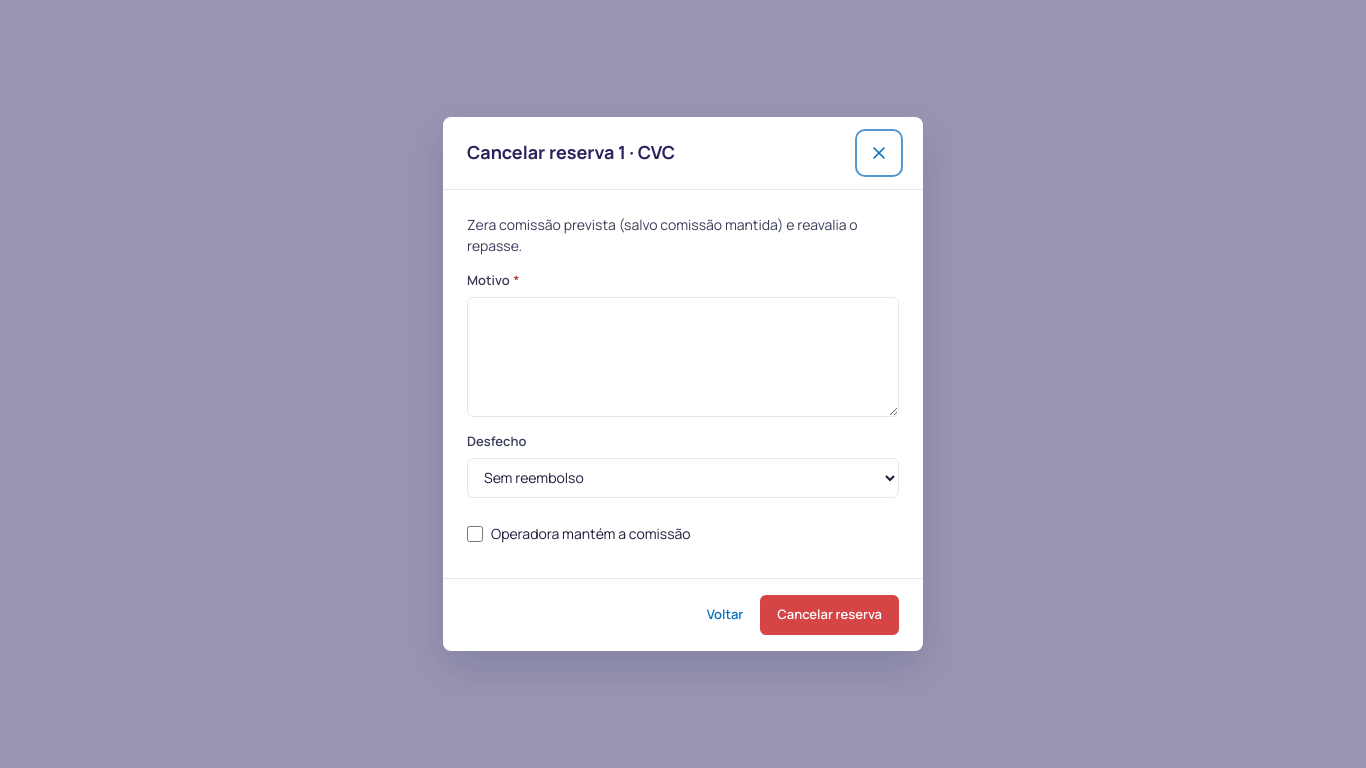
422 valor_acima_da_venda com reembolso aparece sob Valor do reembolso
Step 1. Type "Cliente desistiu" into the text box labelled "Motivo *" → (683, 357), box [467,297,899,417]
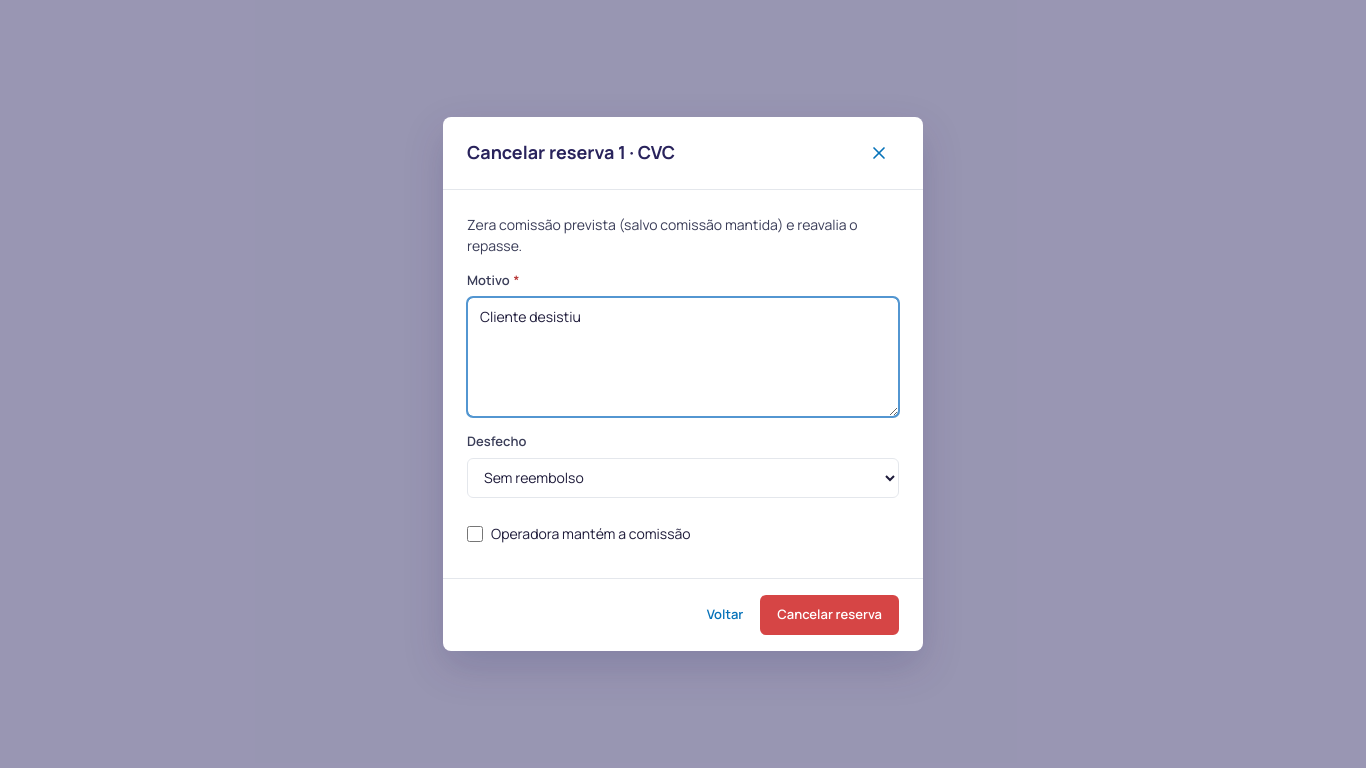
Step 2. Select "Reembolso" in the dropdown labelled "Desfecho" → (683, 478), box [467,458,899,498]
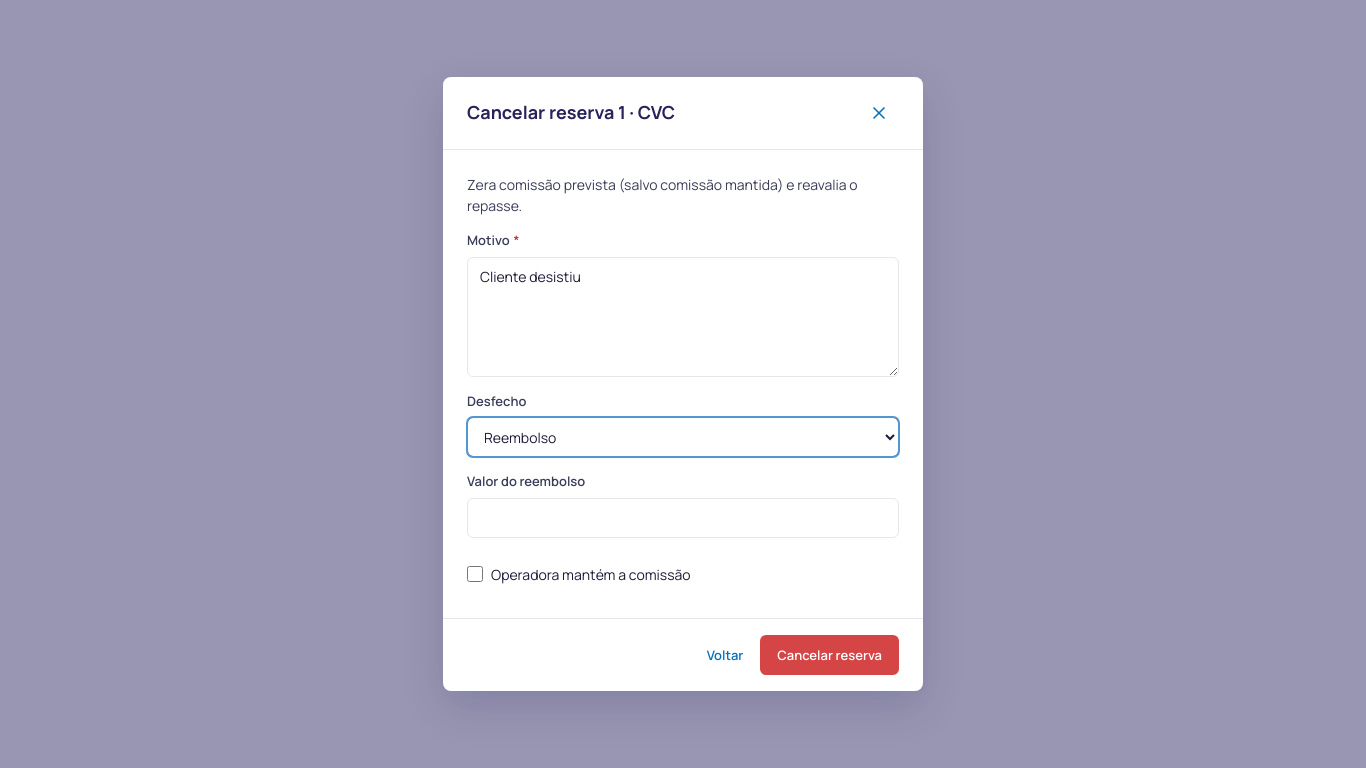
Step 3. Type "100" into the field labelled "Valor do reembolso" → (683, 518), box [467,498,899,538]
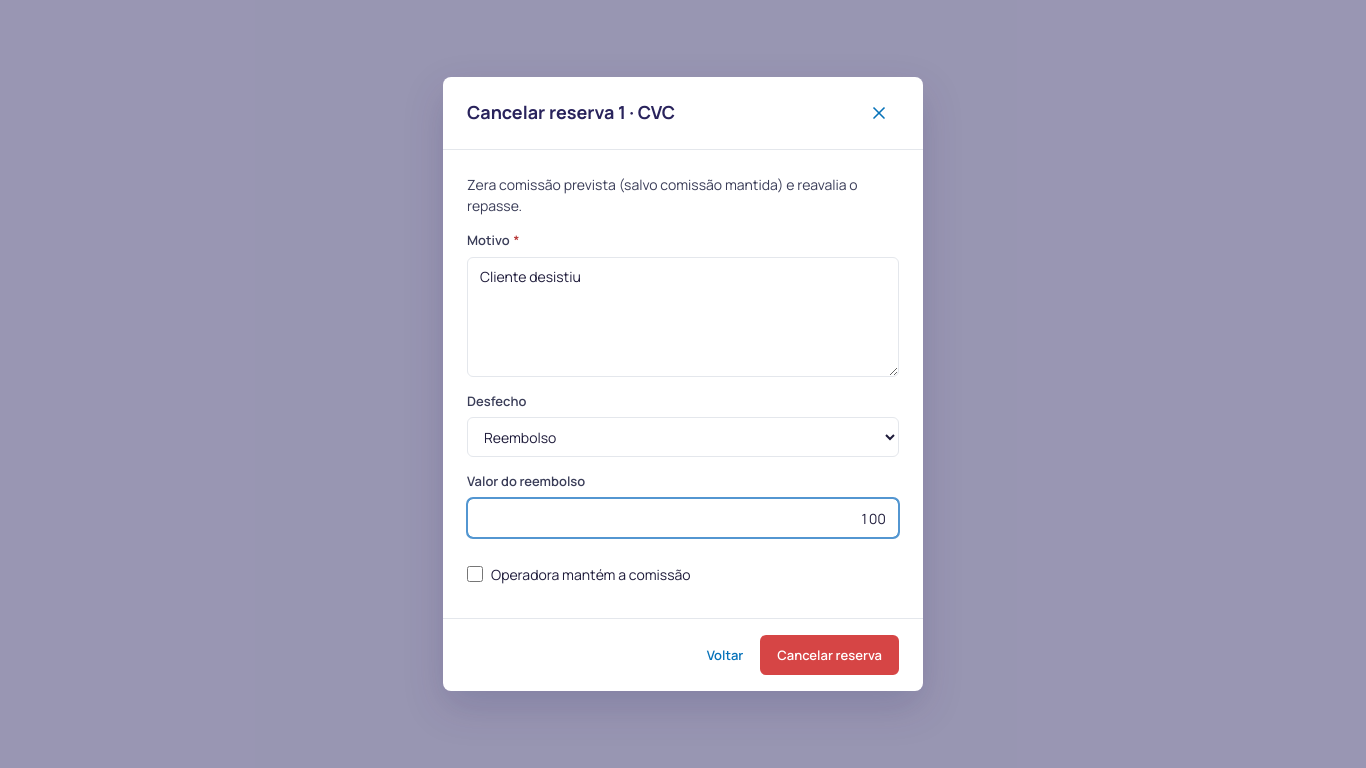
Step 4. Click the button "Cancelar reserva" → (830, 655), box [760,635,899,675]
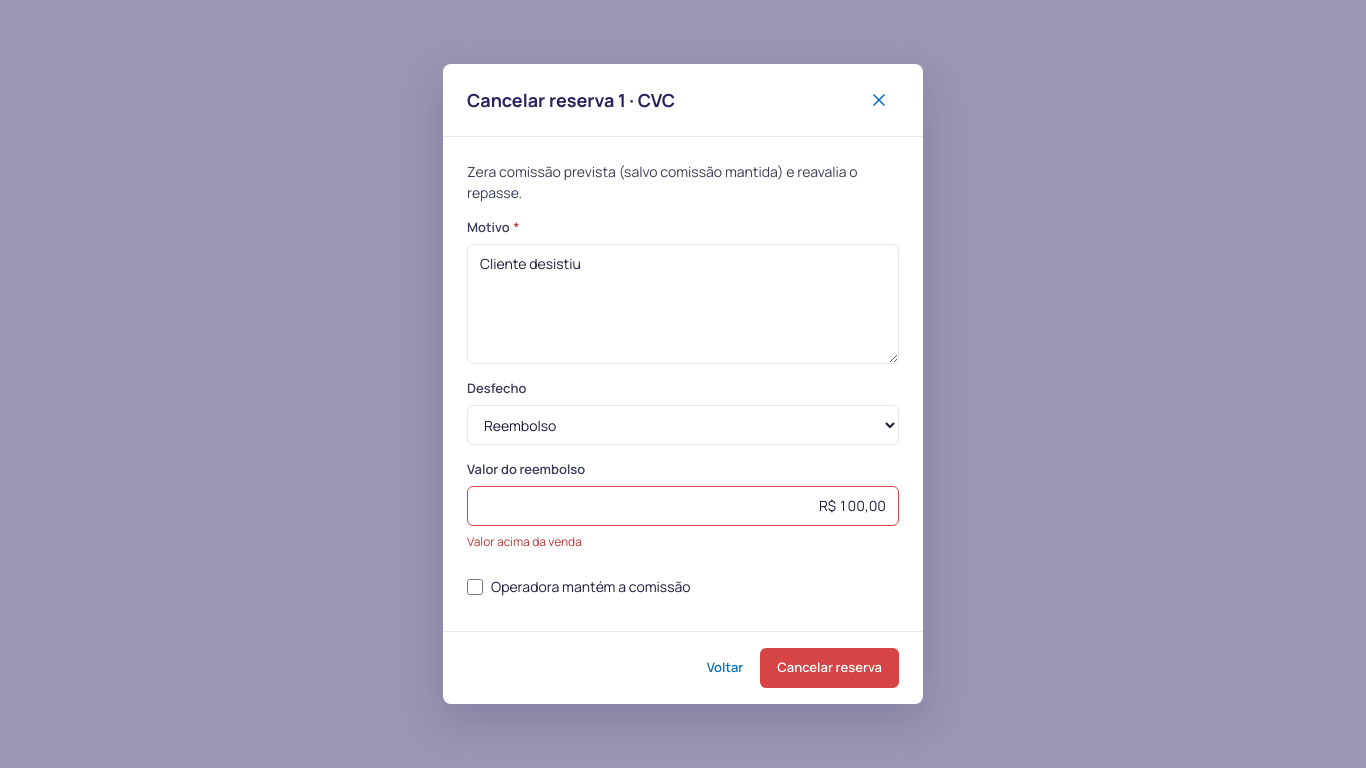
expect the message reads "Valor acima da venda": met, box [467,533,582,550]
